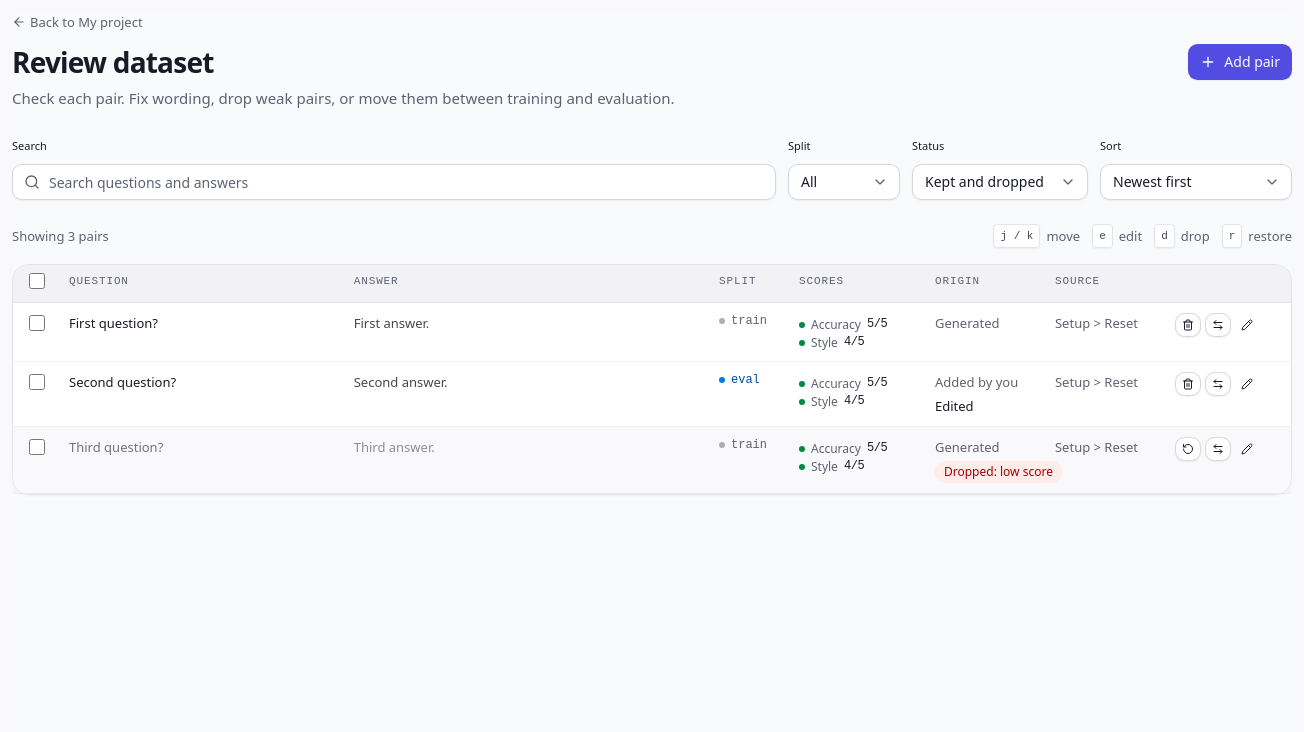
Scenario: ReviewTable › supports keyboard shortcuts but not while typing
Expected: the text "First question?" is shown, x1=69 y1=314 x2=158 y2=332
Type "d" into the search field labelled "Search" at (394, 182), box x1=12 y1=164 x2=776 y2=200
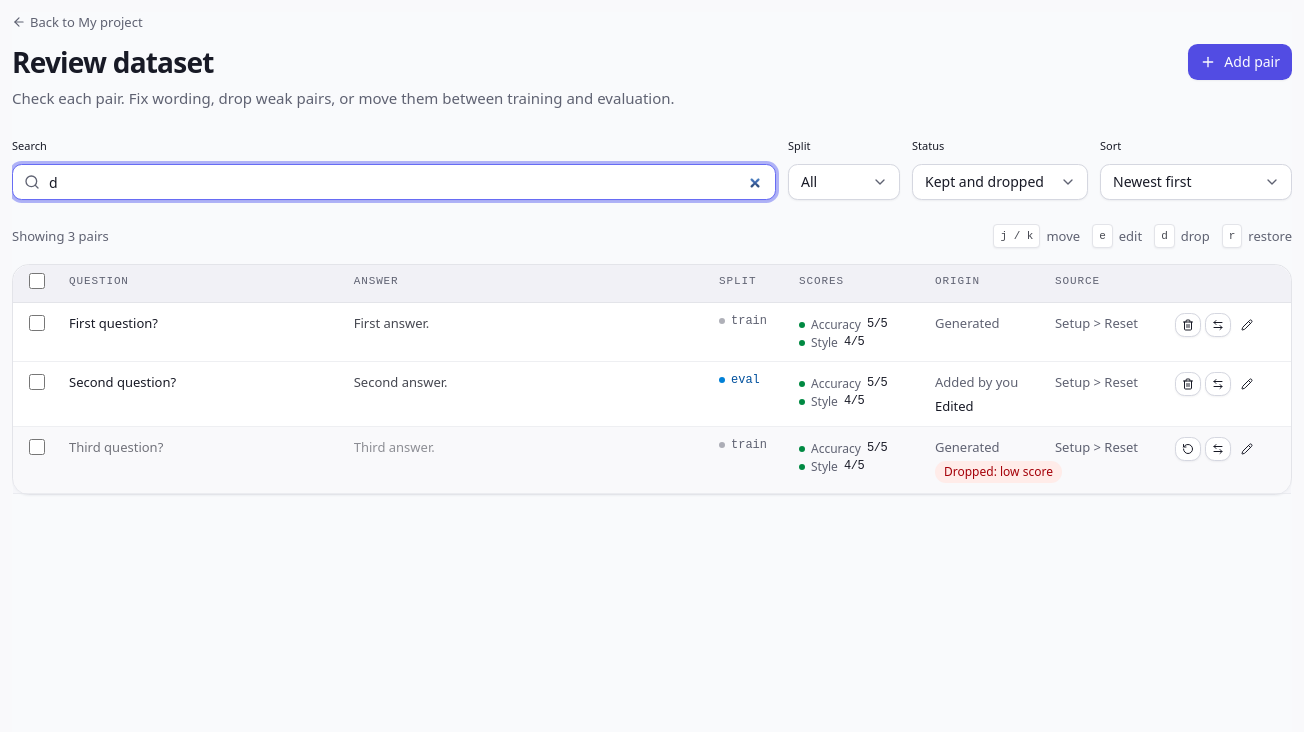
Expected: the text "First question?" is shown, x1=69 y1=314 x2=158 y2=332
Click the element that starts with "Back to My project" at (652, 689), box x1=12 y1=12 x2=1292 y2=731
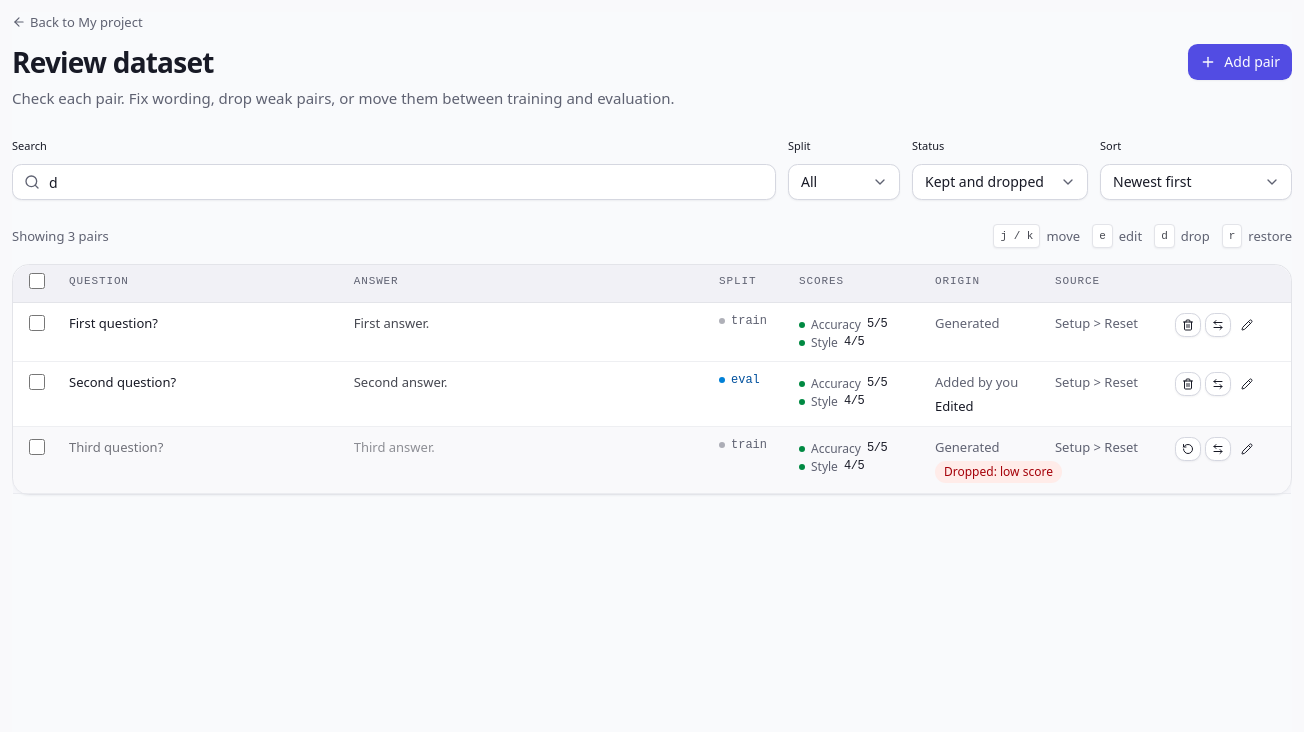
Type keys "j"
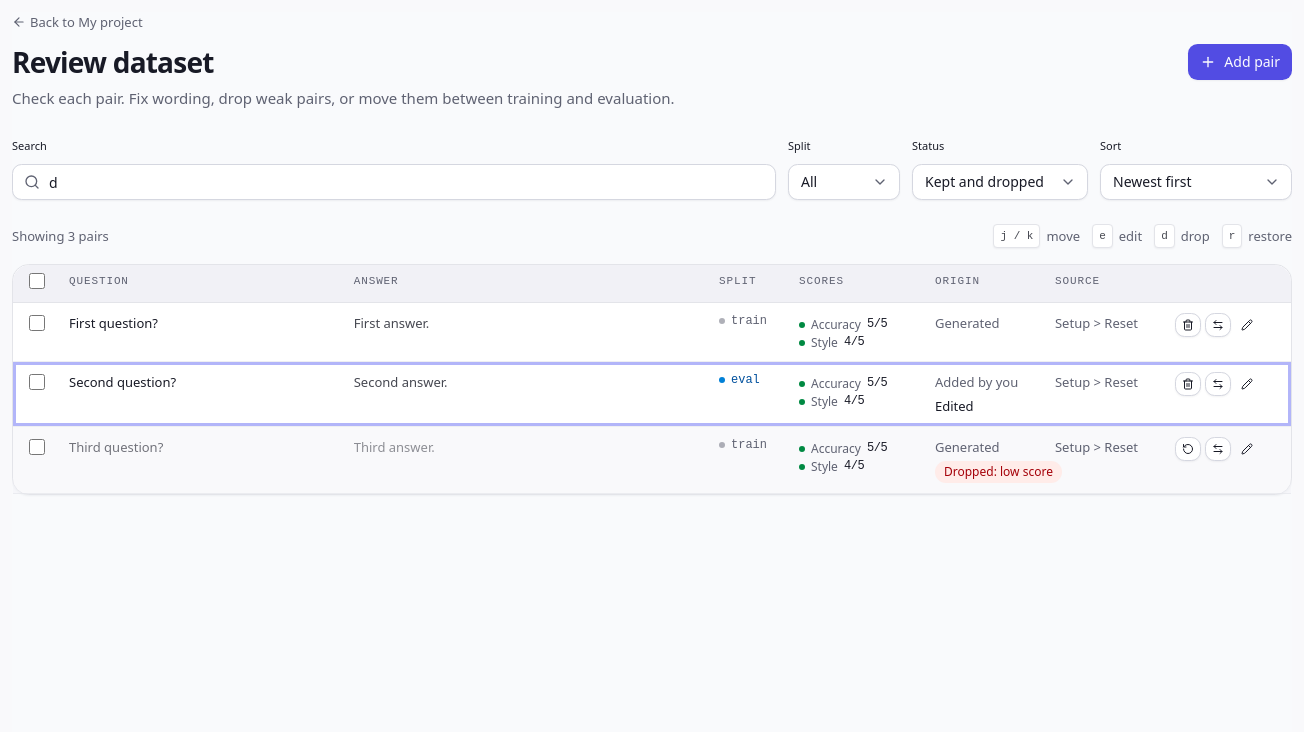
Type keys "d"
Type keys "j"
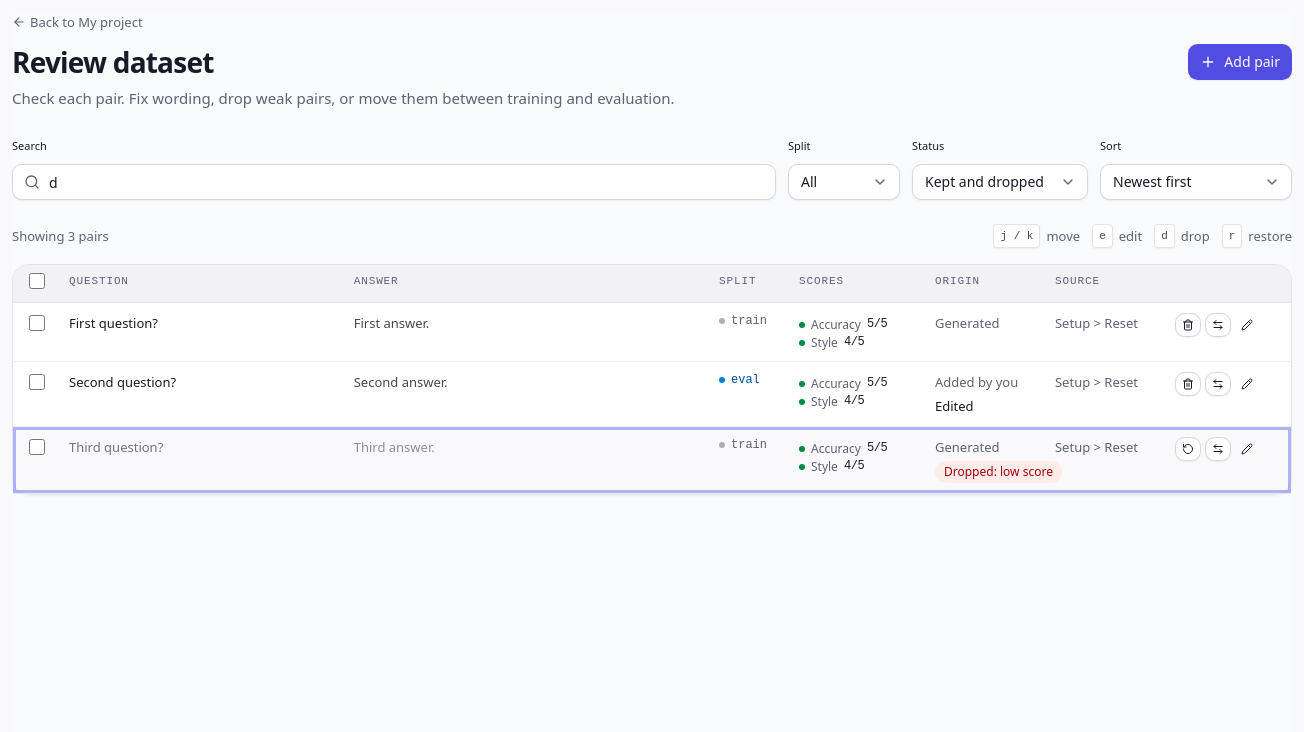
Type keys "r"
Type keys "k"
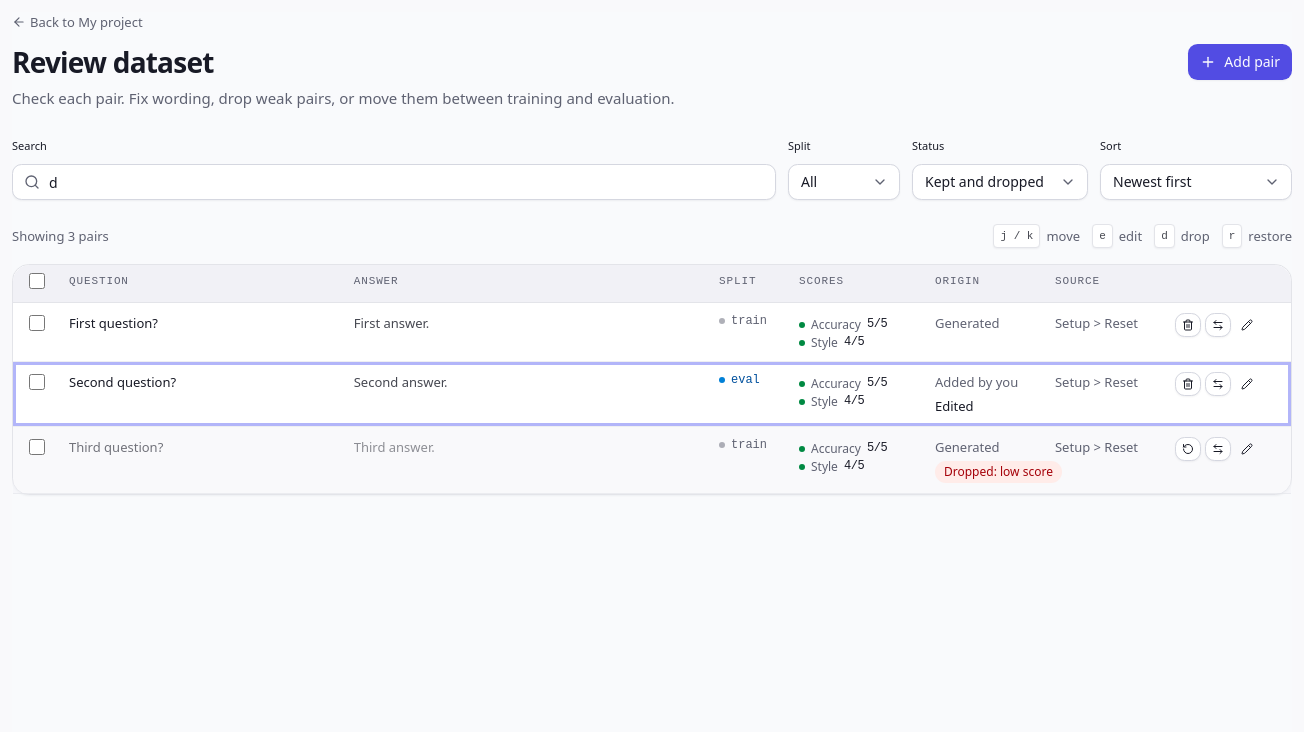
Type keys "e"
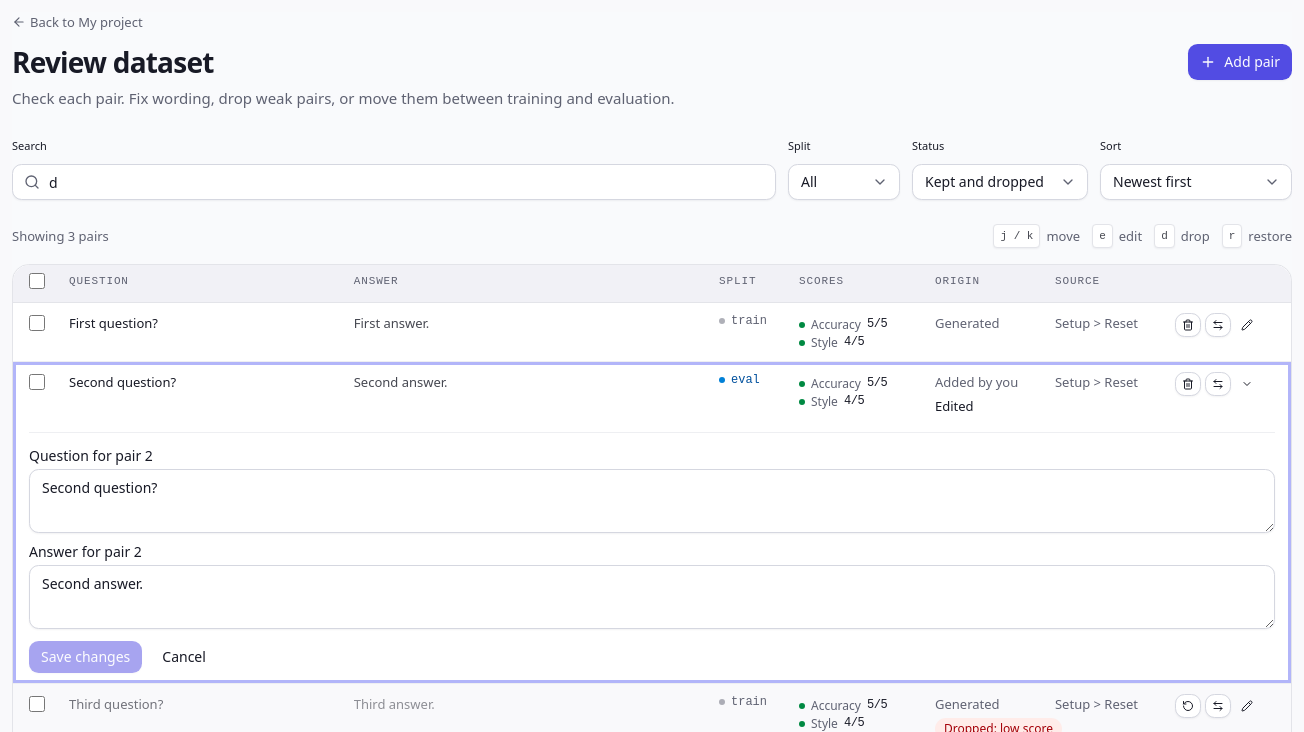
Now the text box labelled "Question for pair 2" is shown, box x1=29 y1=469 x2=1275 y2=533
